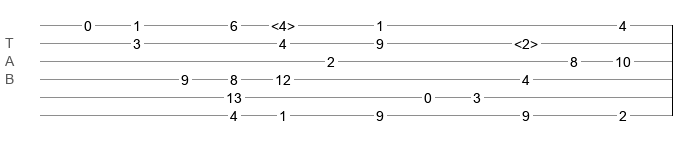0: (84, 18, 92, 28), (424, 90, 432, 100)
1: (133, 18, 141, 28), (279, 108, 287, 118), (376, 18, 384, 28)
10: (615, 54, 631, 64)
12: (275, 72, 291, 82)
13: (226, 90, 242, 100)
2: (327, 54, 335, 64), (619, 108, 627, 118)
3: (133, 36, 141, 46), (473, 90, 481, 100)
4: (230, 108, 238, 118), (279, 36, 287, 46), (522, 72, 530, 82), (619, 18, 627, 28)
6: (230, 18, 238, 28)
8: (230, 72, 238, 82), (570, 54, 578, 64)
9: (181, 72, 189, 82), (376, 108, 384, 118), (376, 36, 384, 46), (522, 108, 530, 118)
harmonic: (271, 18, 295, 28), (514, 36, 538, 46)
